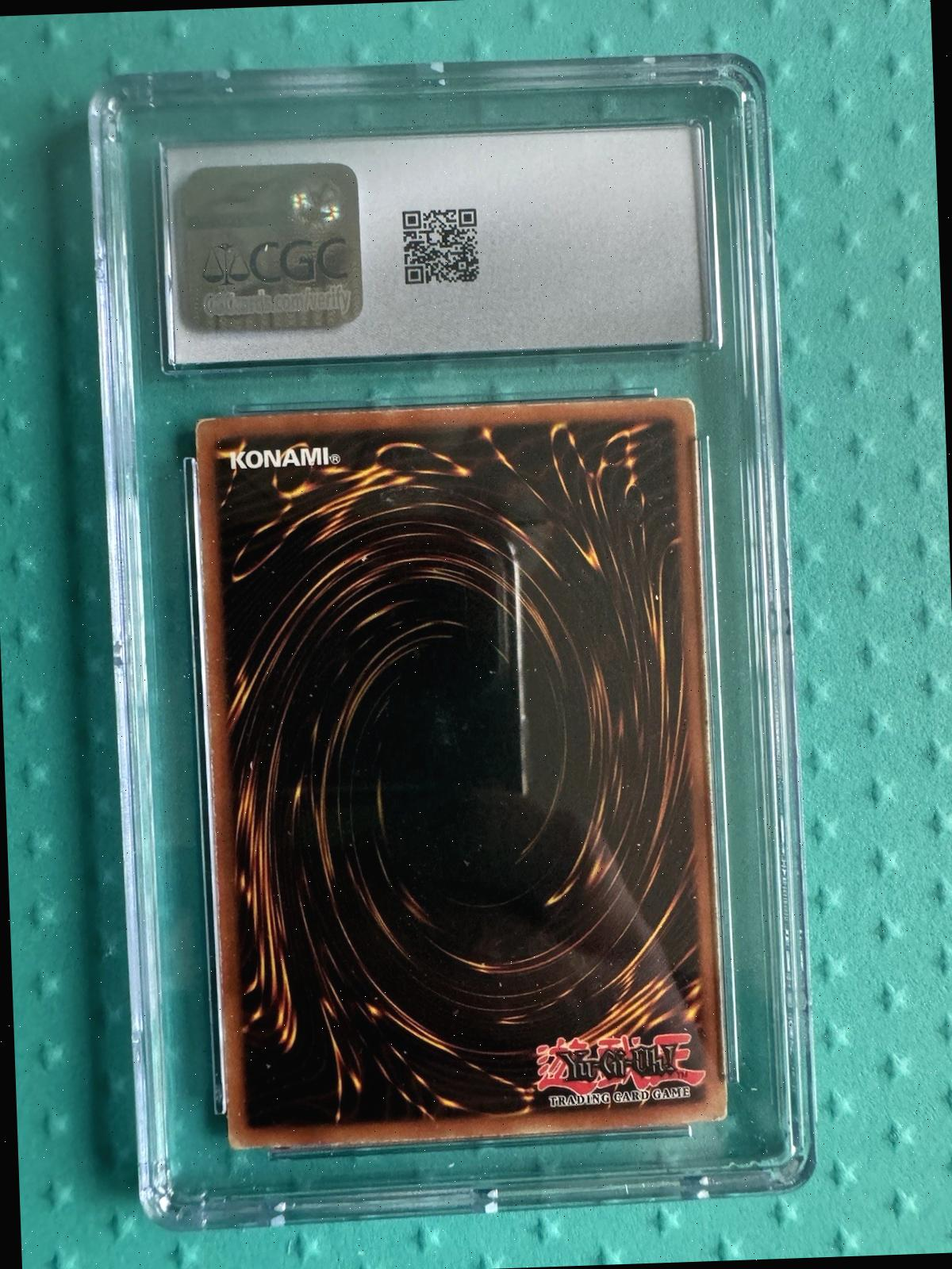card-2UtV: (195, 397, 728, 1150)
